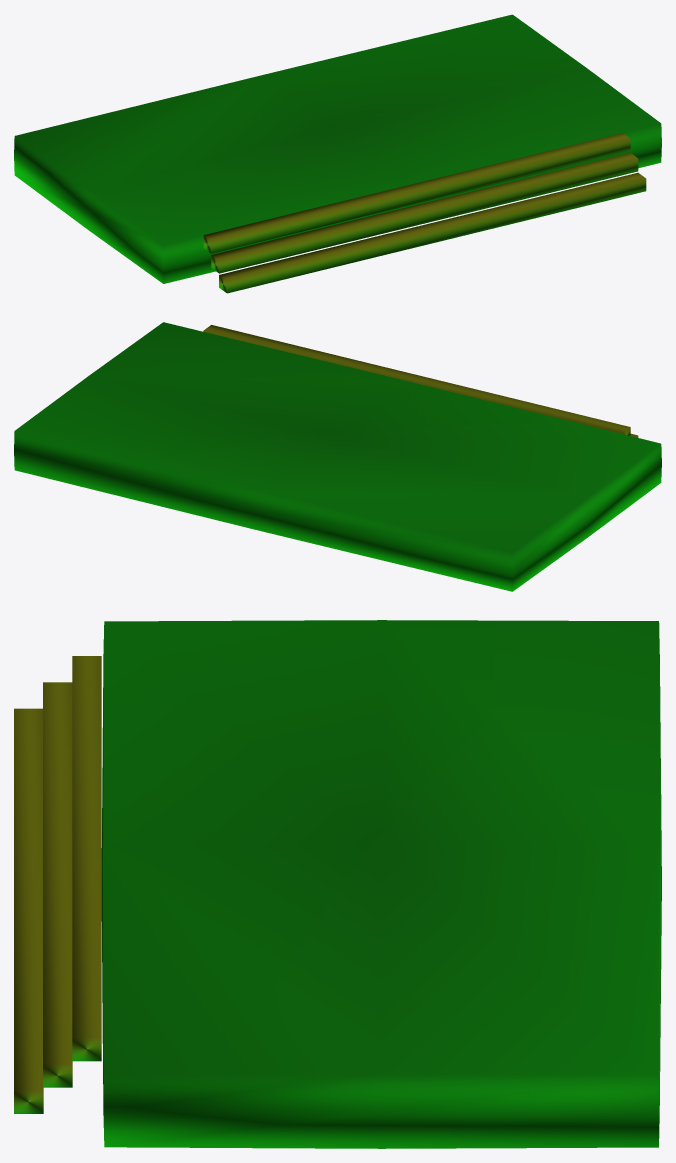
The model's file is iskarra_plaza_rise.glb.
3 views of the same model, one above another, from view 1: azimuth 30°, elevation 25°; view 2: azimuth 150°, elevation 25°; view 3: azimuth 270°, elevation 25° (orthographic). The views are drawn at different scales.
Parts seen in each view (by area): view 1: iskarra_plaza_rise; view 2: iskarra_plaza_rise; view 3: iskarra_plaza_rise.
Boxes of the visible parts, x1=… form: iskarra_plaza_rise: x1=14, y1=14, x2=661, y2=293; iskarra_plaza_rise: x1=14, y1=322, x2=661, y2=591; iskarra_plaza_rise: x1=14, y1=620, x2=661, y2=1148.
Size of what is drawn, in the model's own units: 10 by 0.8007 by 6.02.
